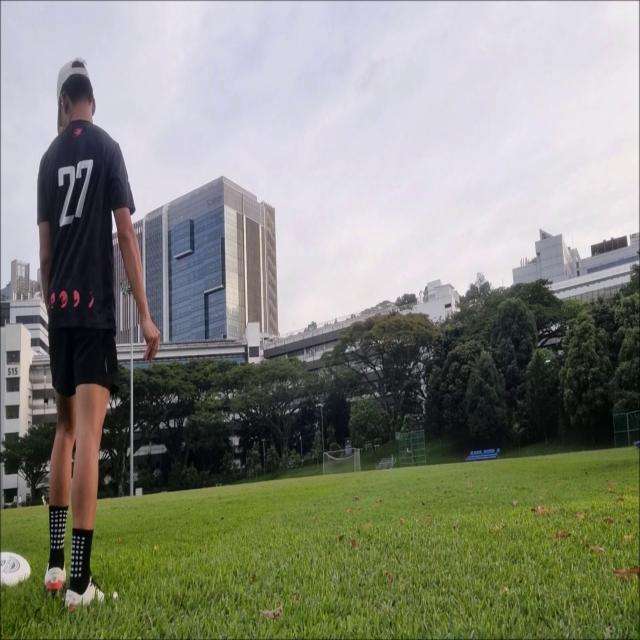disc: (545, 360, 551, 363)
